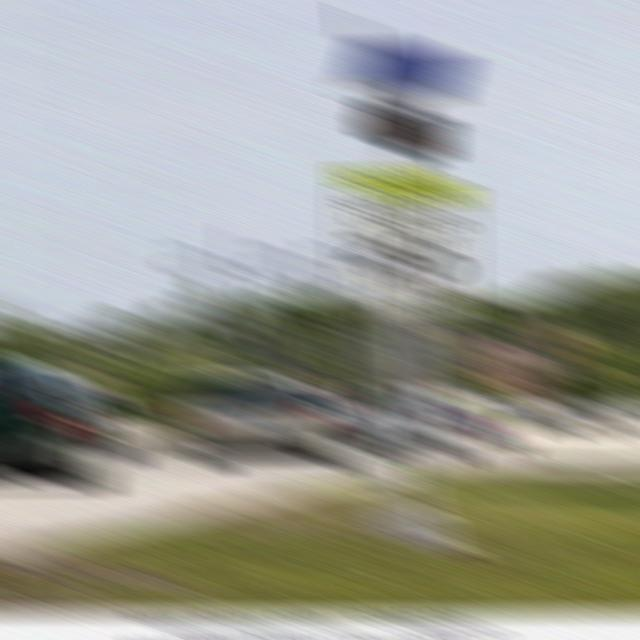speedLimit20: (341, 167, 467, 319)
